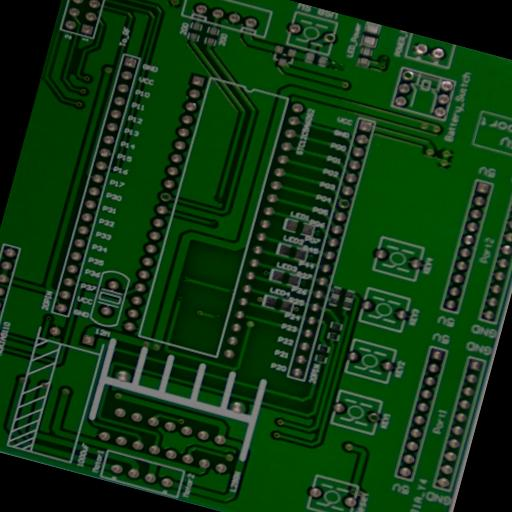missing_hole: (400, 68, 414, 82), (336, 196, 350, 210), (366, 410, 380, 424), (321, 31, 336, 44), (157, 190, 171, 202)
